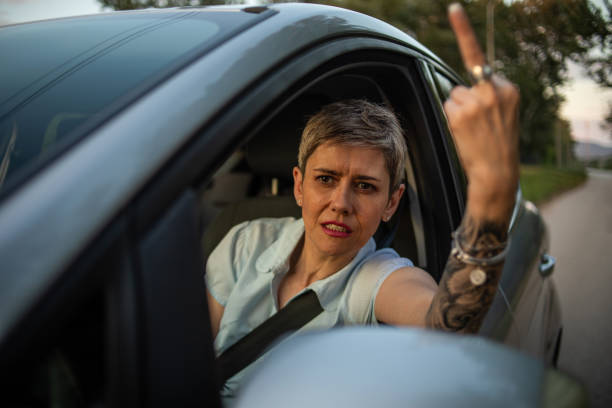insulting_gesture: (438, 2, 523, 170)
